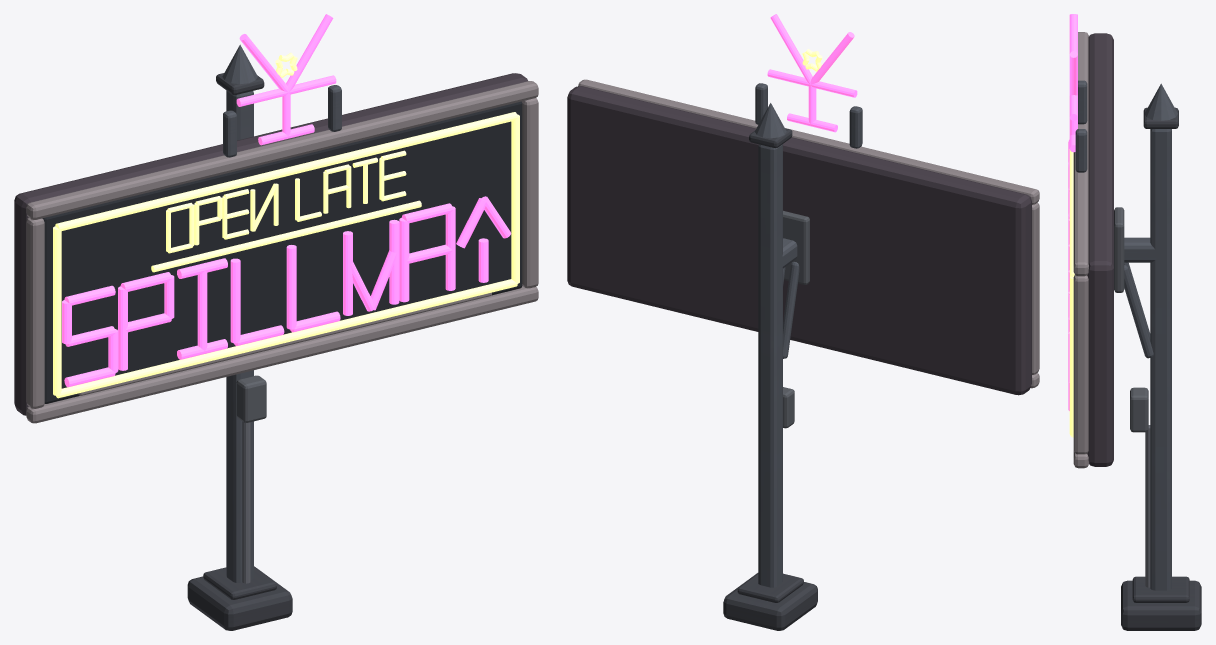
File: sign_bar.glb
3 renders of one model, left to right at view 1: azimuth 30°, elevation 25°; view 2: azimuth 150°, elevation 25°; view 3: azimuth 270°, elevation 25°, orthographic. The views are drawn at different scales.
Parts seen in each view (by area): view 1: sign_bar_face, sign_bar_rail_top, sign_bar_rail_bottom, sign_bar_plate, sign_bar_mast_0, sign_bar_border_s2, sign_bar_border_s0, sign_bar_rail_l, sign_bar_foot_0, sign_bar_rail_r, sign_bar_rule_s0, sign_bar_band (+16 smaller); view 2: sign_bar_plate, sign_bar_mast_0, sign_bar_rail_top, sign_bar_foot_0, sign_bar_stiffener_0, sign_bar_rail_l, sign_bar_footplate_0, sign_bar_brace_0a, sign_bar_crest_rim_s0, sign_bar_finial_0; view 3: sign_bar_plate, sign_bar_mast_0, sign_bar_rail_r, sign_bar_foot_0, sign_bar_rail_top, sign_bar_footplate_0, sign_bar_conduit, sign_bar_stiffener_0, sign_bar_brace_0b, sign_bar_junction, sign_bar_border_s1, sign_bar_arm_0 (+10 smaller).
Boxes of the visible parts, x1,y1,x2,y2 form: sign_bar_face: (42,101,522,403); sign_bar_rail_top: (26,81,538,219); sign_bar_rail_bottom: (26,286,538,423); sign_bar_plate: (14,73,527,415); sign_bar_mast_0: (226,90,253,582); sign_bar_border_s2: (55,112,517,231); sign_bar_border_s0: (56,279,517,398); sign_bar_rail_l: (26,218,44,408); sign_bar_foot_0: (187,566,292,630); sign_bar_rail_r: (522,98,538,288); sign_bar_rule_s0: (151,200,421,272); sign_bar_band: (78,292,491,395); sign_bar_plate: (567,86,1031,395); sign_bar_mast_0: (758,144,782,587); sign_bar_rail_top: (578,79,1039,204); sign_bar_foot_0: (723,573,817,630); sign_bar_stiffener_0: (783,210,809,284); sign_bar_rail_l: (1032,203,1039,374); sign_bar_footplate_0: (737,573,803,602); sign_bar_brace_0a: (782,261,799,358); sign_bar_crest_rim_s0: (767,69,857,97); sign_bar_finial_0: (755,103,786,138); sign_bar_plate: (1087,33,1113,466); sign_bar_mast_0: (1150,129,1171,590); sign_bar_rail_r: (1073,275,1088,454); sign_bar_foot_0: (1121,580,1201,630); sign_bar_rail_top: (1073,32,1088,276); sign_bar_footplate_0: (1132,576,1189,602); sign_bar_conduit: (1145,425,1150,587); sign_bar_stiffener_0: (1114,207,1124,292); sign_bar_brace_0b: (1124,265,1153,358); sign_bar_junction: (1130,387,1148,432); sign_bar_border_s1: (1069,277,1073,435); sign_bar_arm_0: (1124,237,1157,262).
Size of the model in its own units: 3.29 by 3.84 by 0.792.
Materials: 79 (3 with a texture image).
